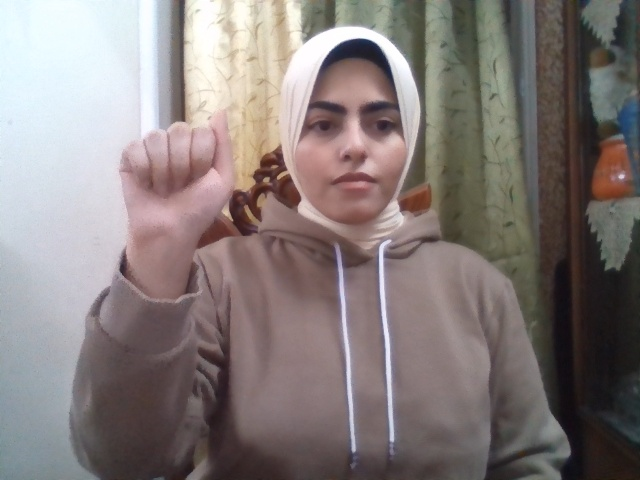A: (121, 106, 238, 248)
